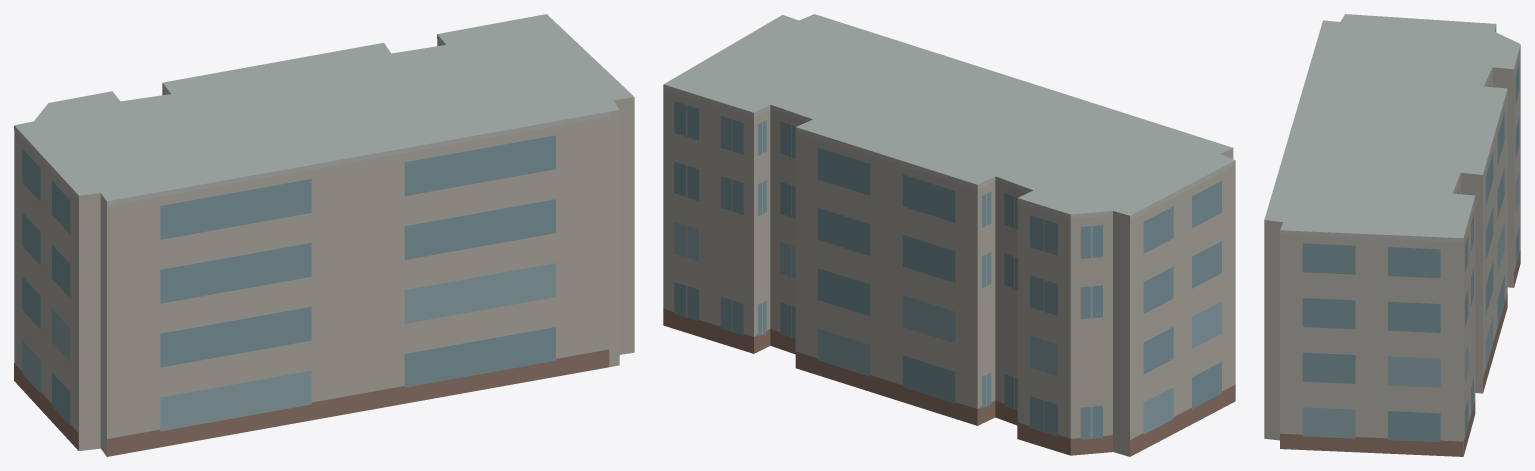
The model's file is survey-upis-32992832.glb.
3 renders of one model, left to right at view 1: azimuth 30°, elevation 25°; view 2: azimuth 150°, elevation 25°; view 3: azimuth 270°, elevation 25°, orthographic. The views are drawn at different scales.
Visible parts, largest first — view 1: survey-upis-32992832.tmp; view 2: survey-upis-32992832.tmp; view 3: survey-upis-32992832.tmp.
Part boxes in pixels (<box>): survey-upis-32992832.tmp: <box>14,14,634,456</box>; survey-upis-32992832.tmp: <box>663,14,1235,456</box>; survey-upis-32992832.tmp: <box>1264,14,1520,456</box>.
Size of the model in its own units: 28.17 by 12.8 by 13.62.
